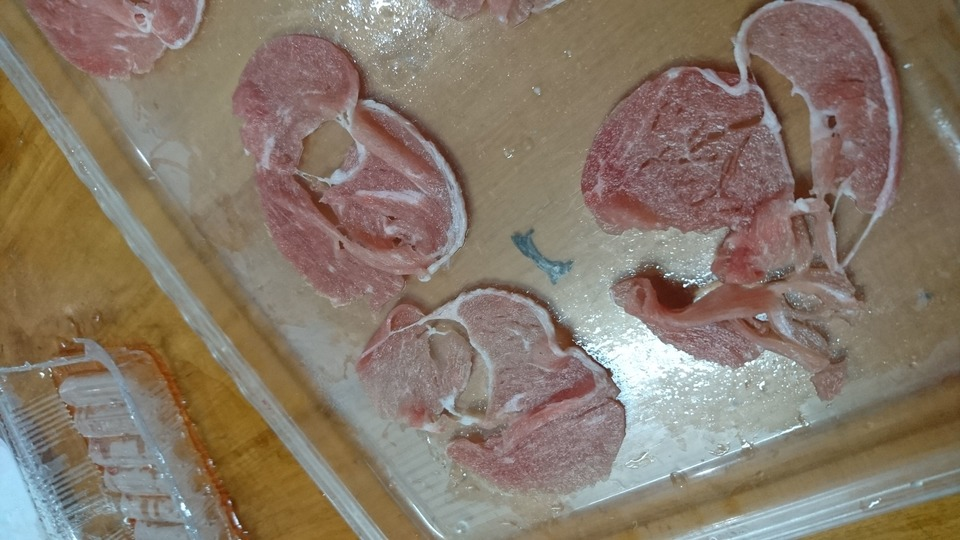restructured meat: (593, 13, 928, 378), (230, 36, 473, 295), (333, 309, 630, 492), (24, 4, 216, 85)
